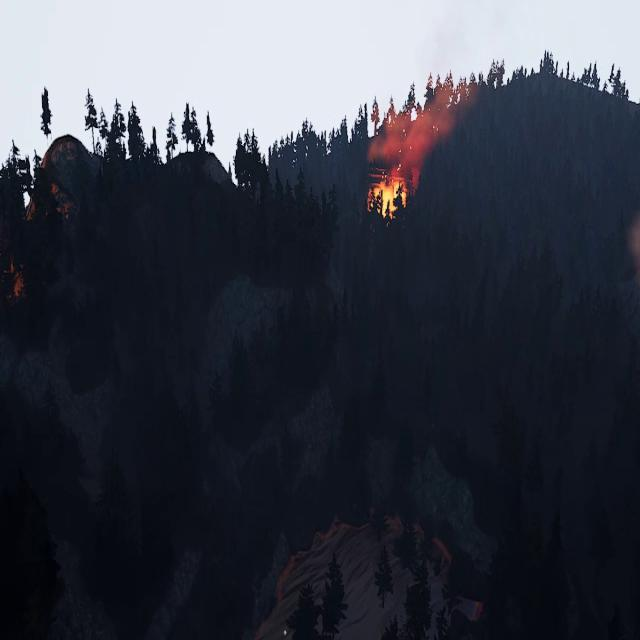fire: (368, 178, 407, 215)
smoke: (366, 72, 475, 179)
